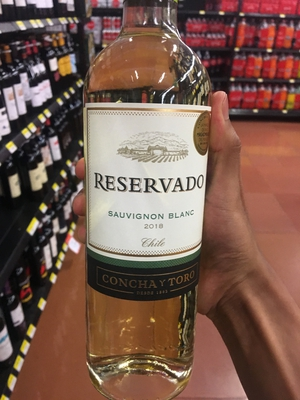reservado sauvignon blanc: (76, 8, 207, 379)
